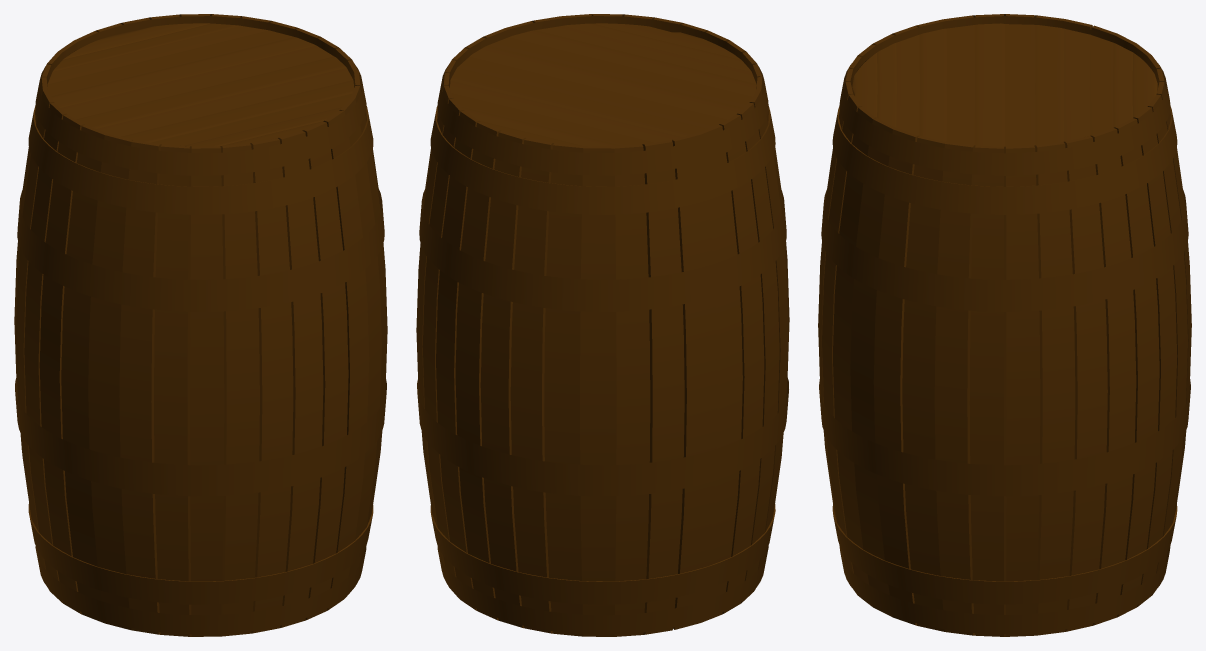
The model's file is M_Tonneau.fbx.
3 views of the same model, side by side, from view 1: azimuth 30°, elevation 25°; view 2: azimuth 150°, elevation 25°; view 3: azimuth 270°, elevation 25° (orthographic).
Parts seen in each view (by area): view 1: tonneau_modelcerclage; view 2: tonneau_modelcerclage; view 3: tonneau_modelcerclage.
Part boxes in pixels (x1,y1,x2,y2): tonneau_modelcerclage: (14,14,387,636); tonneau_modelcerclage: (416,14,789,636); tonneau_modelcerclage: (818,14,1191,636).
Bounding box in the file's own units: 64.53 × 93 × 64.53.
